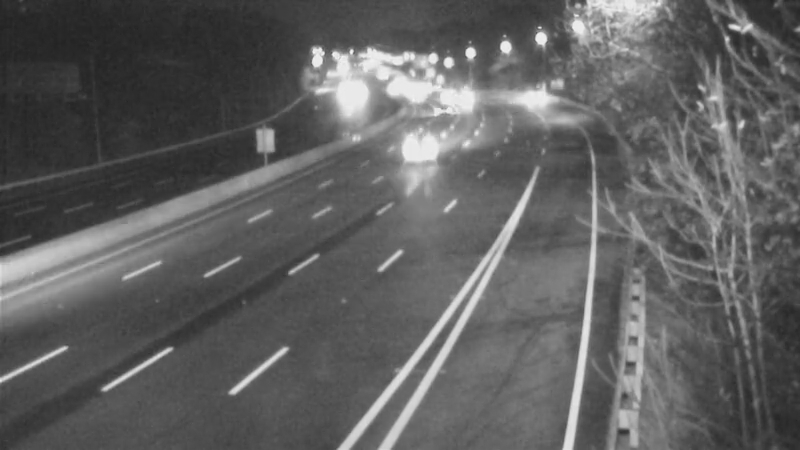vehicle: (490, 68, 540, 118), (418, 81, 468, 131), (394, 121, 444, 171)
